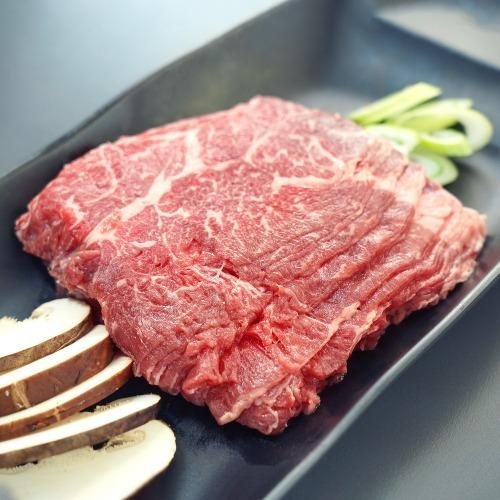beef: (53, 94, 359, 327)
